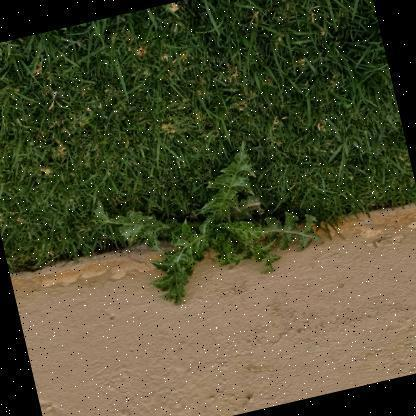Weeds: (82, 128, 334, 321)
